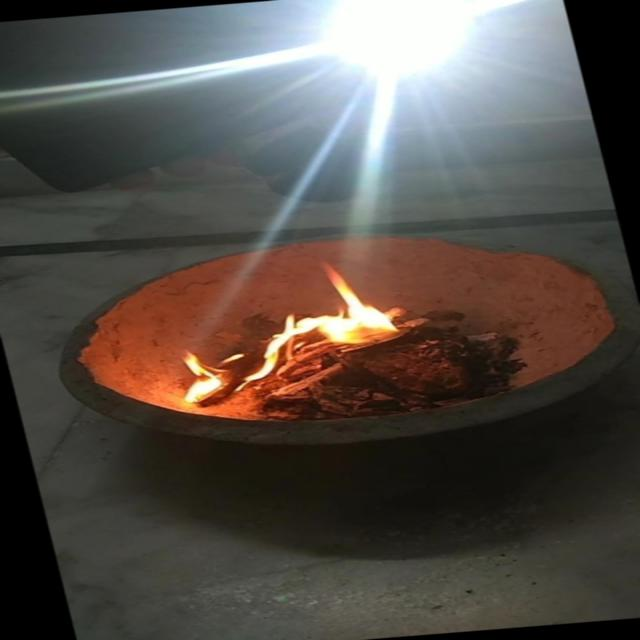fire: (236, 238, 398, 354)
